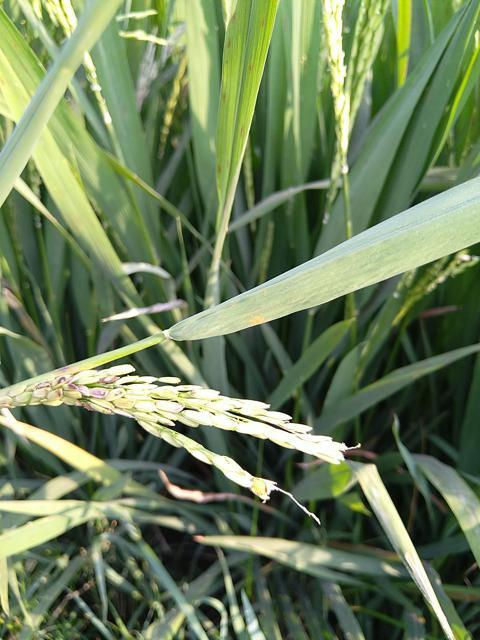Panicle Blight: (27, 374, 121, 414), (0, 396, 19, 412)
